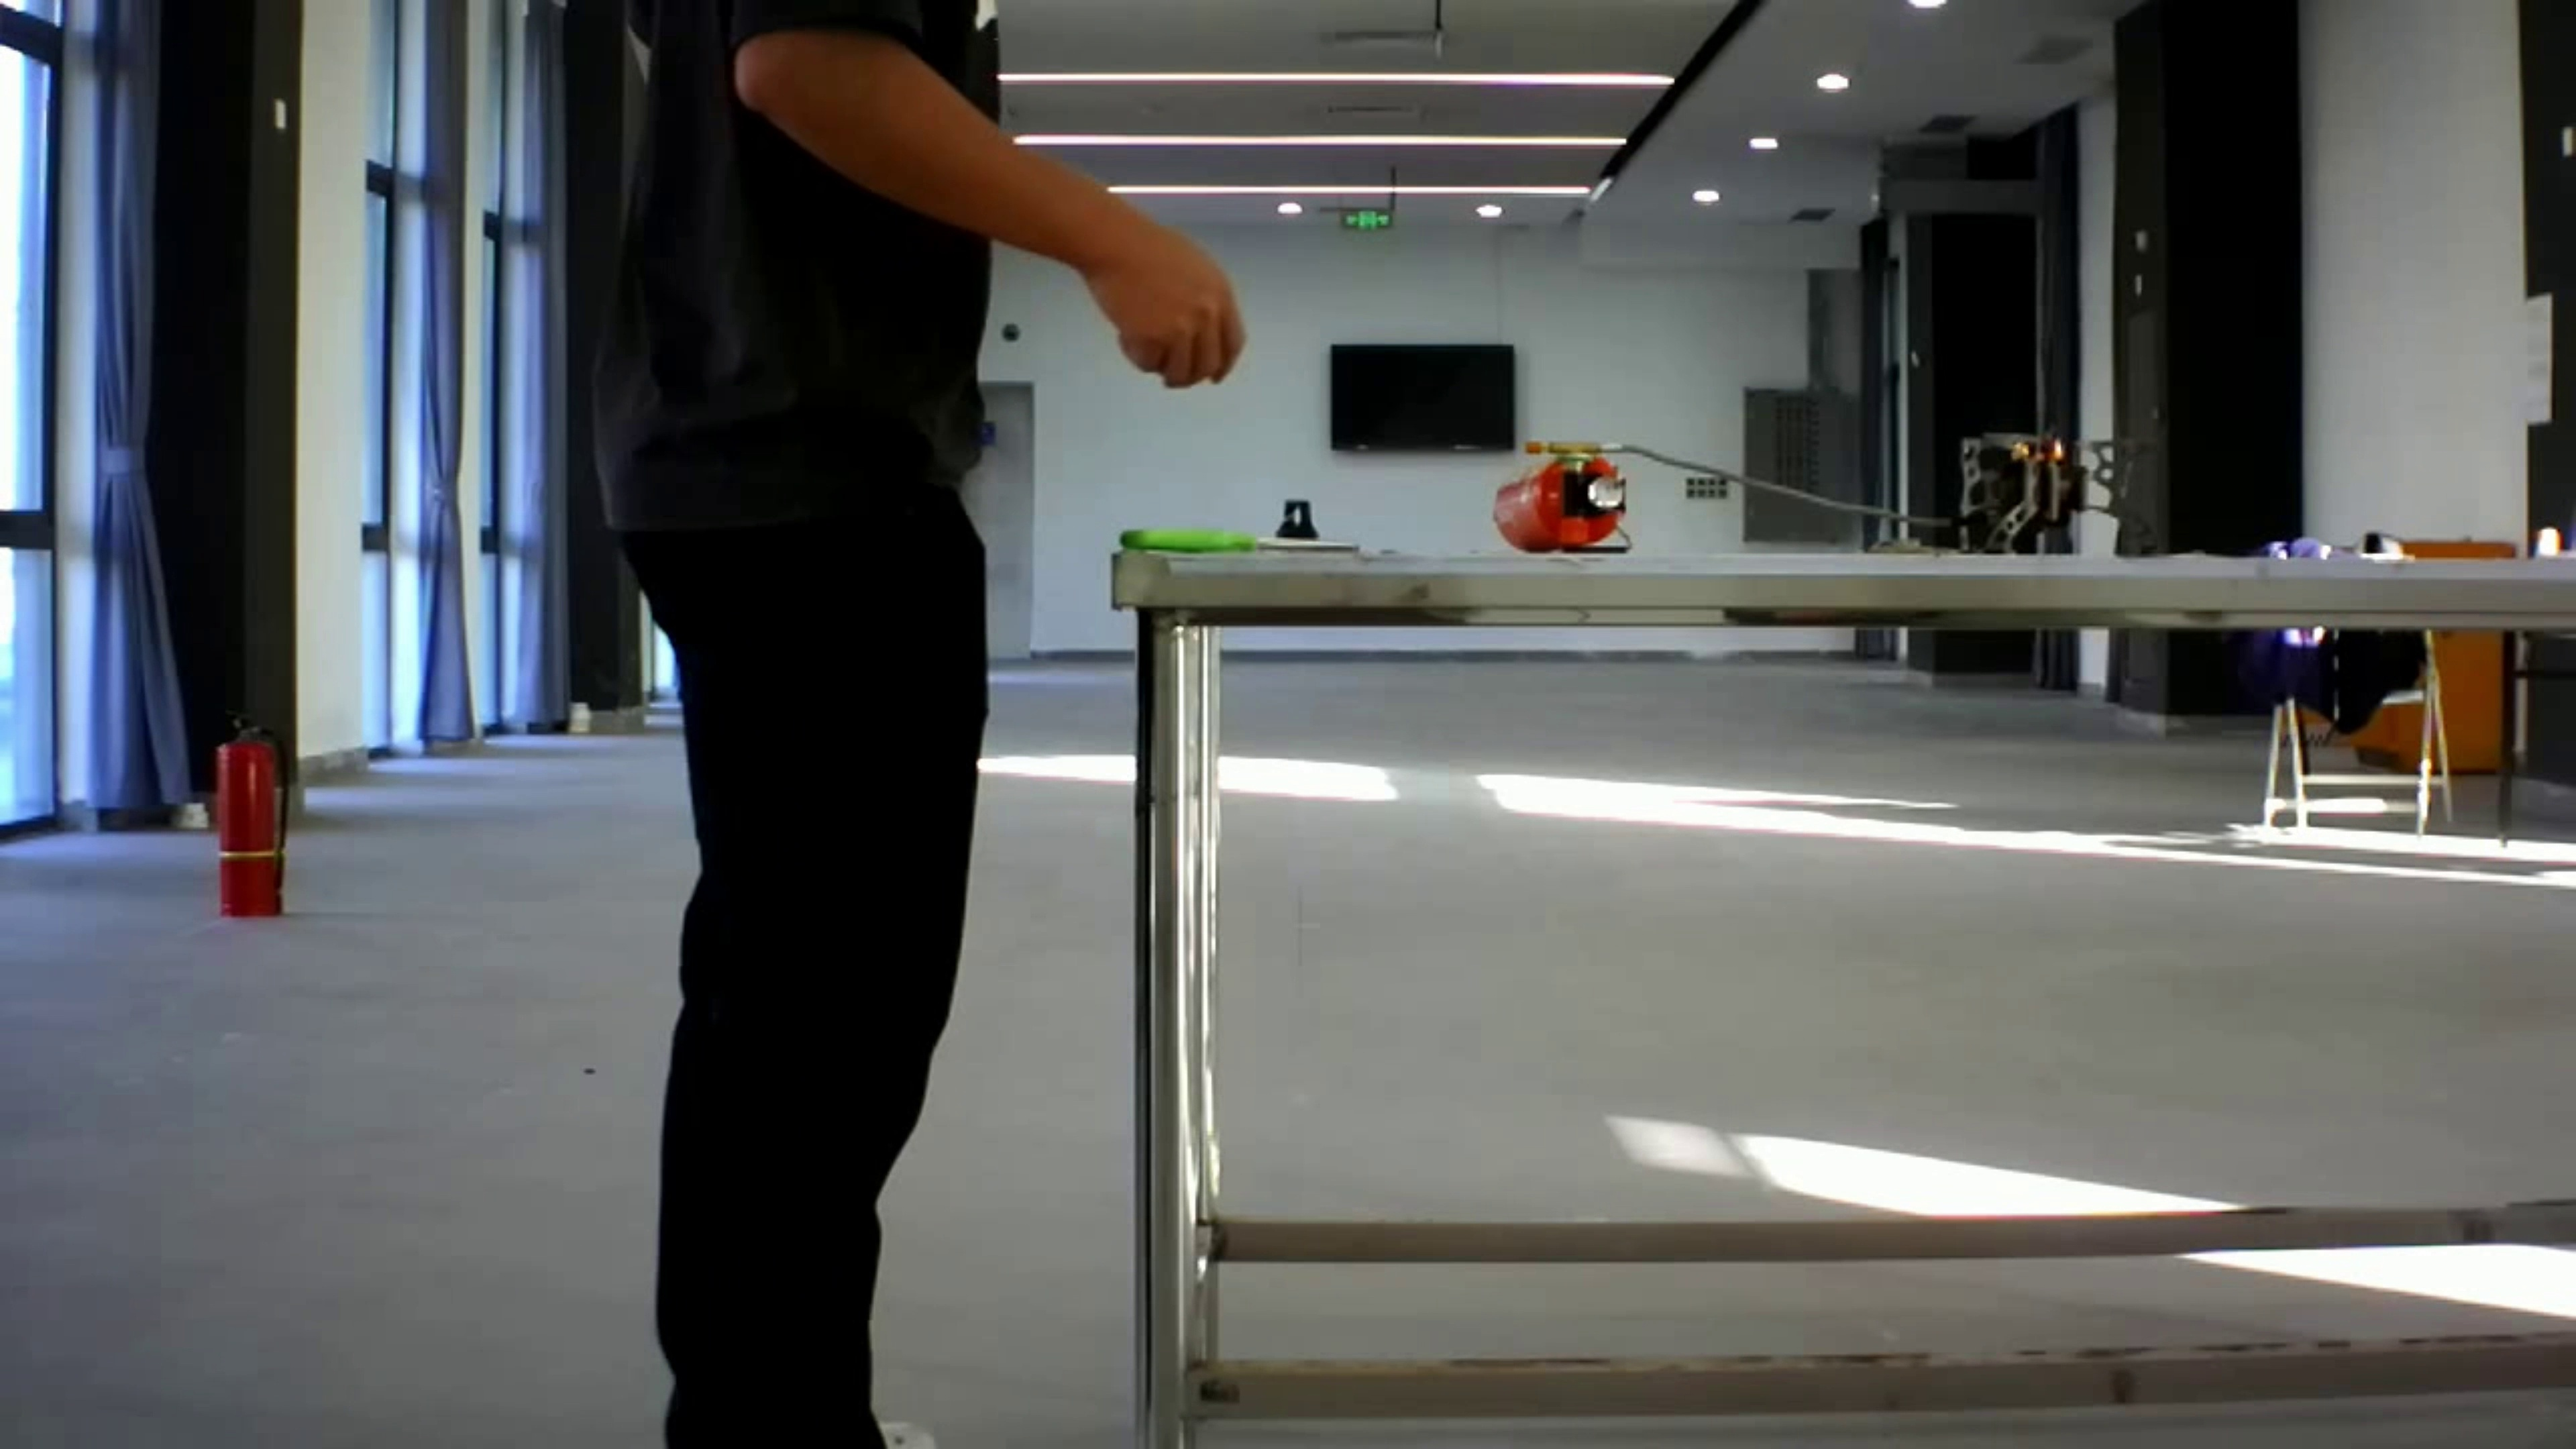Fire: (2003, 418, 2077, 474)
